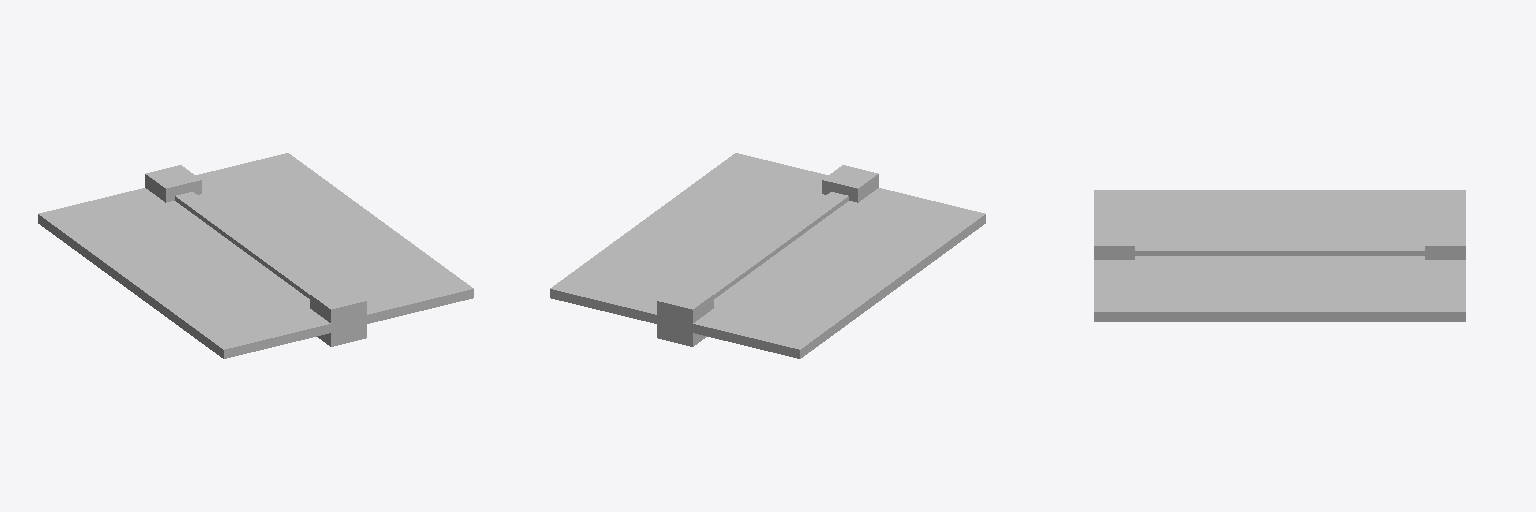
The model's file is radiator_horizontal.obj.
The picture shows the model from 3 angles: view 1: azimuth 30°, elevation 25°; view 2: azimuth 150°, elevation 25°; view 3: azimuth 270°, elevation 25°; orthographic projection.
Visible parts, largest first — view 1: radiator, radiator_ports; view 2: radiator, radiator_ports; view 3: radiator, radiator_ports.
Part boxes in pixels (bbox=[...]): radiator: bbox=[38, 153, 473, 358]; radiator_ports: bbox=[145, 165, 366, 346]; radiator: bbox=[550, 153, 985, 358]; radiator_ports: bbox=[657, 165, 878, 346]; radiator: bbox=[1094, 190, 1465, 321]; radiator_ports: bbox=[1094, 229, 1465, 259].
Size of the model in its own units: 7 by 1 by 9.